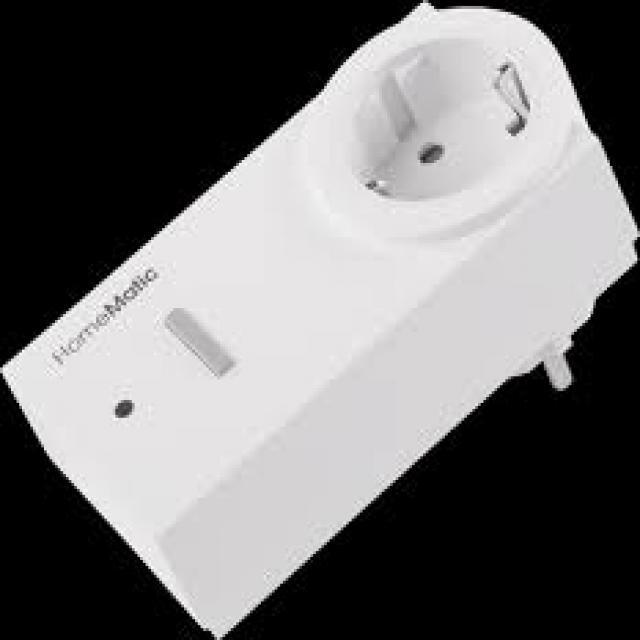typeb: (348, 33, 556, 228)
